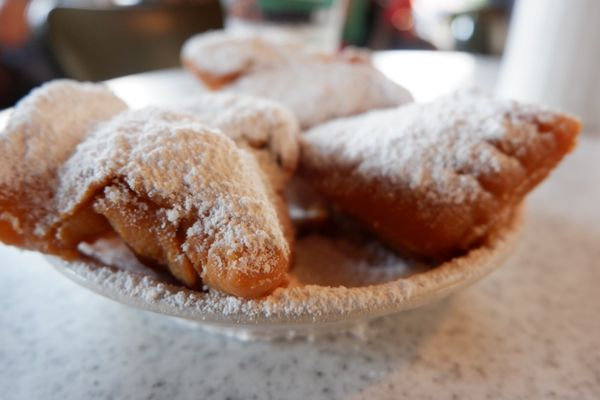pizza: (492, 0, 600, 134), (219, 0, 349, 53)
